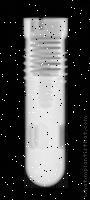Camlog: (24, 18, 68, 188)
